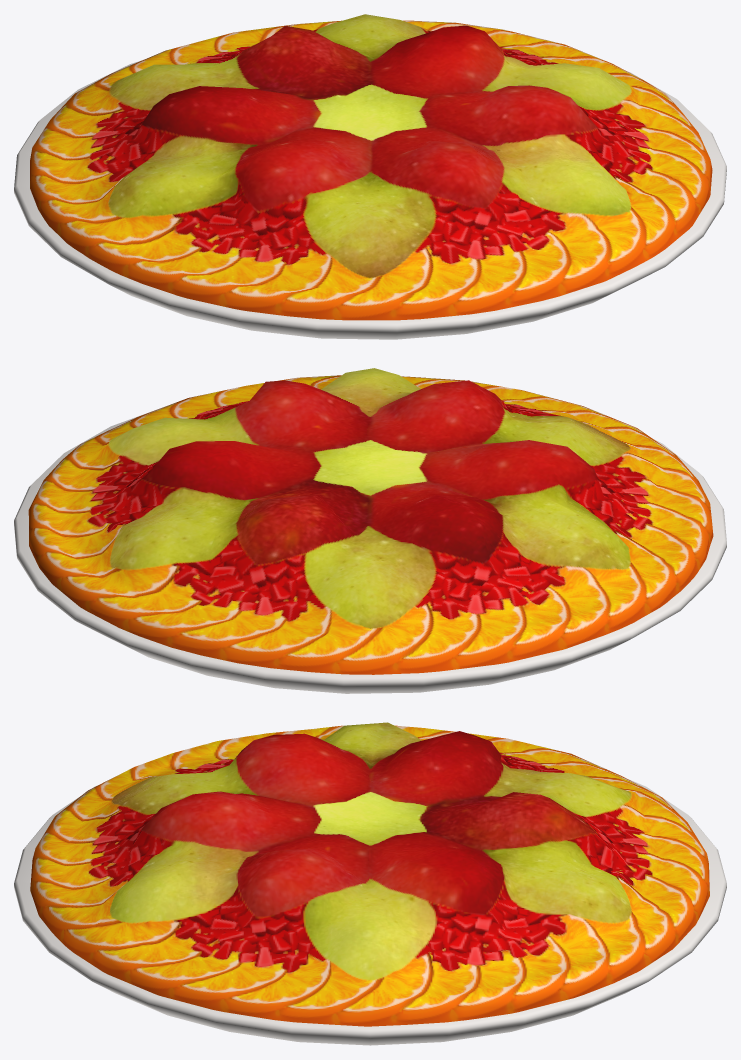
The model's file is BuffetFruits01_3.FBX.
3 renders of one model, top to bottom at view 1: azimuth 30°, elevation 25°; view 2: azimuth 150°, elevation 25°; view 3: azimuth 270°, elevation 25°, orthographic.
Parts seen in each view (by area): view 1: BuffetFruits01_3; view 2: BuffetFruits01_3; view 3: BuffetFruits01_3.
Part boxes in pixels (left/top/right/bottom): BuffetFruits01_3: left=14, top=14, right=726, bottom=339; BuffetFruits01_3: left=14, top=368, right=726, bottom=693; BuffetFruits01_3: left=14, top=722, right=726, bottom=1045.
Size of what is drawn, in the model's own units: 0.5988 by 0.1003 by 0.5988.
